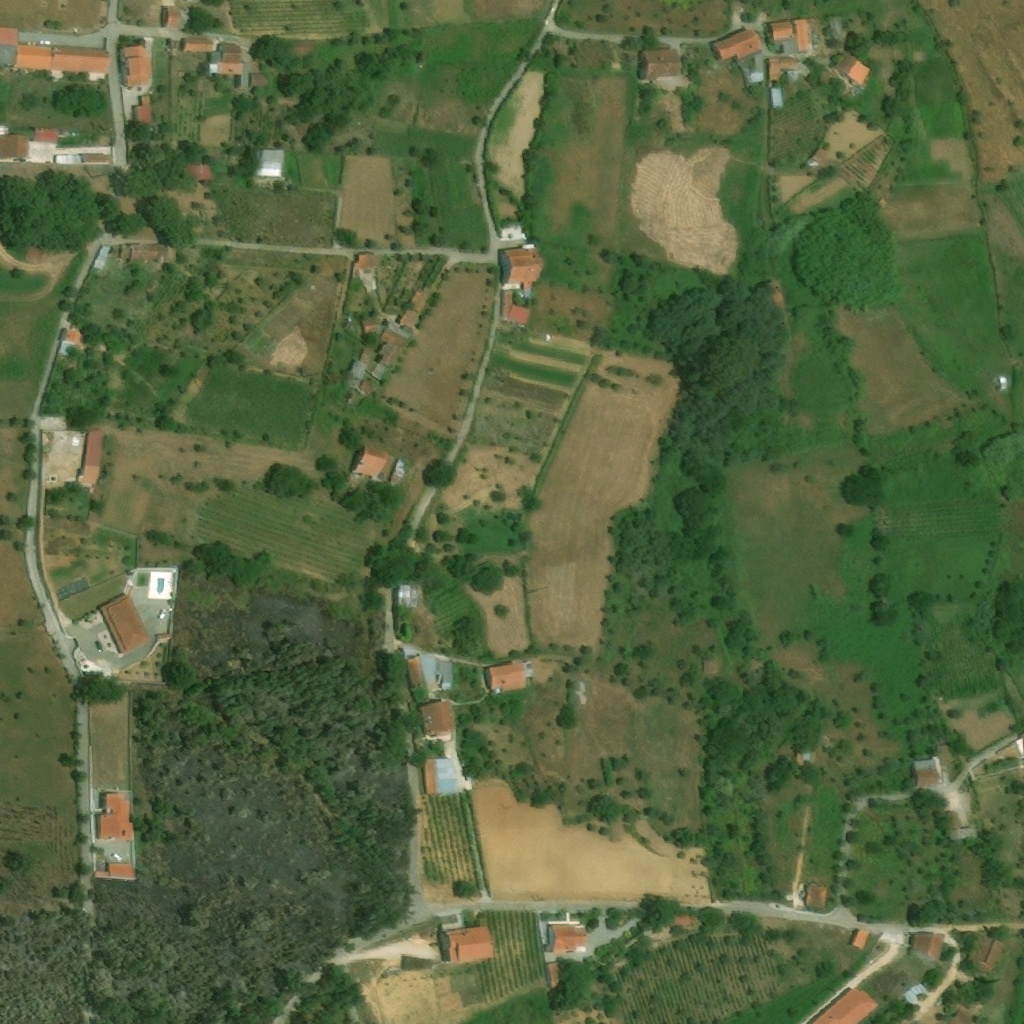0 no-damage: (811, 931, 949, 1023), (0, 27, 110, 83), (97, 593, 150, 655), (440, 918, 496, 962), (371, 328, 409, 382), (498, 243, 543, 284), (712, 27, 763, 61), (97, 793, 133, 840), (76, 429, 103, 487), (637, 47, 683, 81), (912, 745, 951, 785), (967, 931, 1004, 973), (416, 699, 456, 737), (769, 17, 814, 50), (349, 444, 390, 479), (421, 756, 459, 793), (484, 659, 529, 690), (120, 46, 152, 87), (547, 922, 590, 952), (343, 348, 372, 391), (500, 290, 532, 326), (250, 147, 285, 179), (209, 44, 244, 75), (119, 244, 169, 264), (945, 810, 978, 840), (352, 252, 383, 280), (768, 55, 800, 81), (395, 309, 422, 339), (0, 134, 31, 159), (834, 52, 862, 79), (93, 864, 136, 881), (57, 328, 82, 356), (405, 654, 425, 686), (163, 6, 193, 27), (132, 95, 151, 127), (411, 287, 435, 312), (828, 15, 848, 45), (90, 244, 110, 273), (395, 585, 417, 609), (546, 960, 563, 990), (388, 457, 405, 487), (184, 163, 214, 180), (805, 885, 828, 907), (851, 926, 872, 950), (942, 1008, 975, 1023), (497, 224, 526, 240), (181, 38, 212, 52), (247, 72, 272, 88), (354, 379, 376, 397), (32, 128, 58, 143), (673, 913, 700, 927), (361, 317, 380, 334), (26, 245, 43, 263), (771, 87, 783, 110), (291, 42, 314, 54), (83, 155, 111, 162)
4 un-classified: (1016, 733, 1023, 758)
